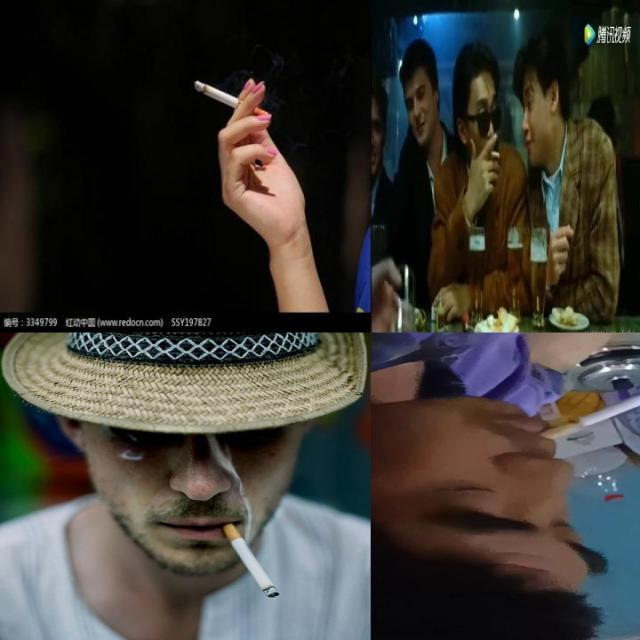cigarette: (538, 382, 640, 440), (218, 520, 282, 598), (193, 79, 271, 120), (489, 149, 501, 160)
